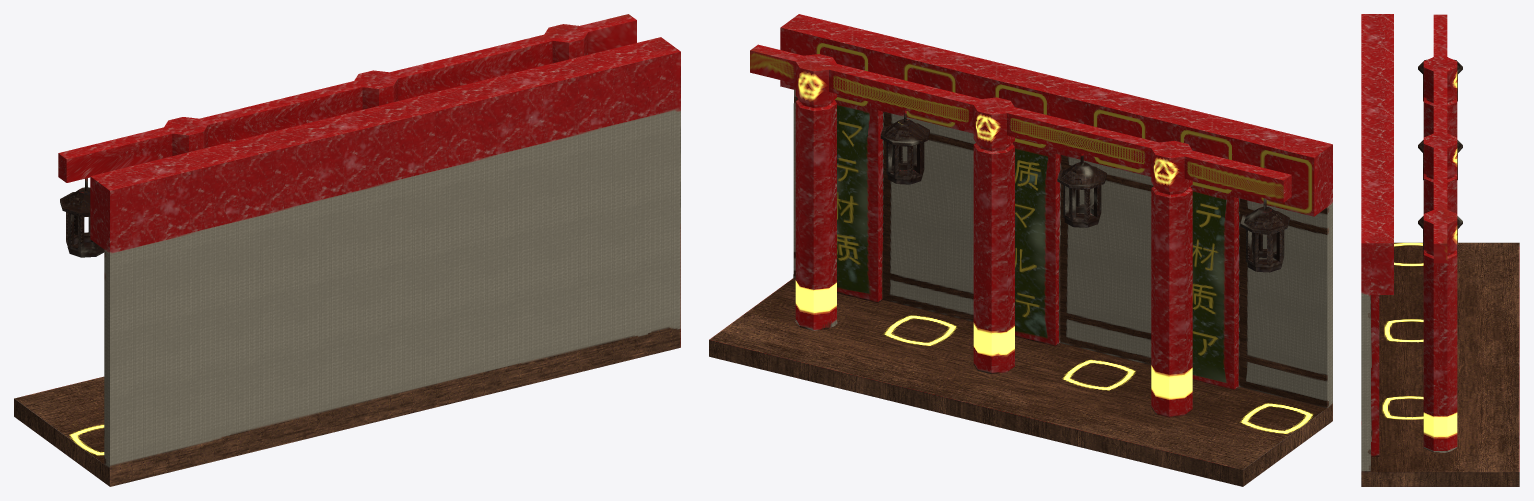
File: Mur_Temple.fbx
The picture shows the model from 3 angles, left to right: view 1: azimuth 30°, elevation 25°; view 2: azimuth 150°, elevation 25°; view 3: azimuth 270°, elevation 25°; orthographic projection. The views are drawn at different scales.
Visible parts, largest first — view 1: Mur_Biome_Temple; view 2: Mur_Biome_Temple; view 3: Mur_Biome_Temple.
Boxes of the visible parts, box(x1,y1,x2,y2) form: Mur_Biome_Temple: box(14, 14, 680, 486); Mur_Biome_Temple: box(709, 14, 1332, 486); Mur_Biome_Temple: box(1361, 14, 1519, 486).
Size of the model in its own units: 1597 by 792 by 466.
1 material, 1 textured.
